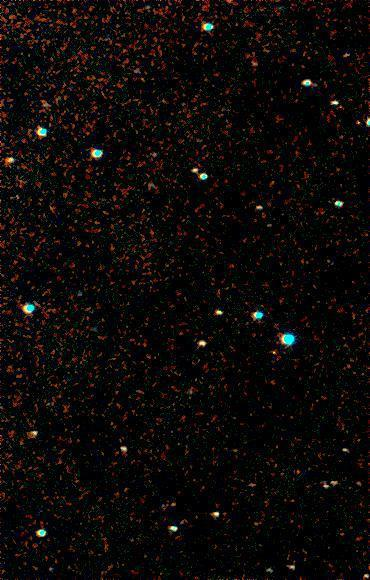star: (327, 524, 357, 554)
